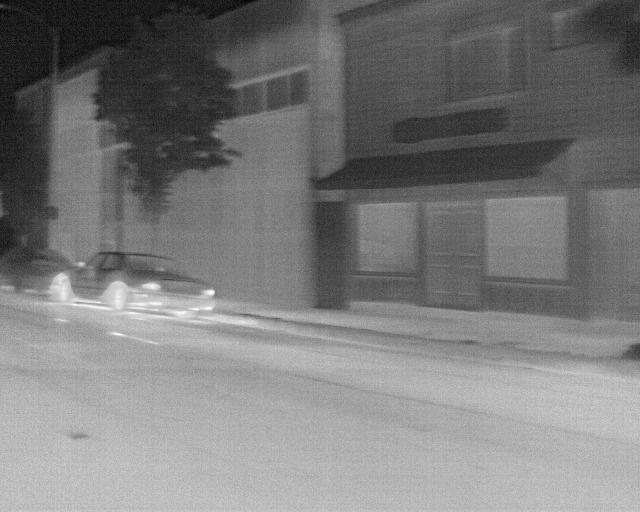car: (46, 250, 216, 319), (7, 252, 81, 296)
